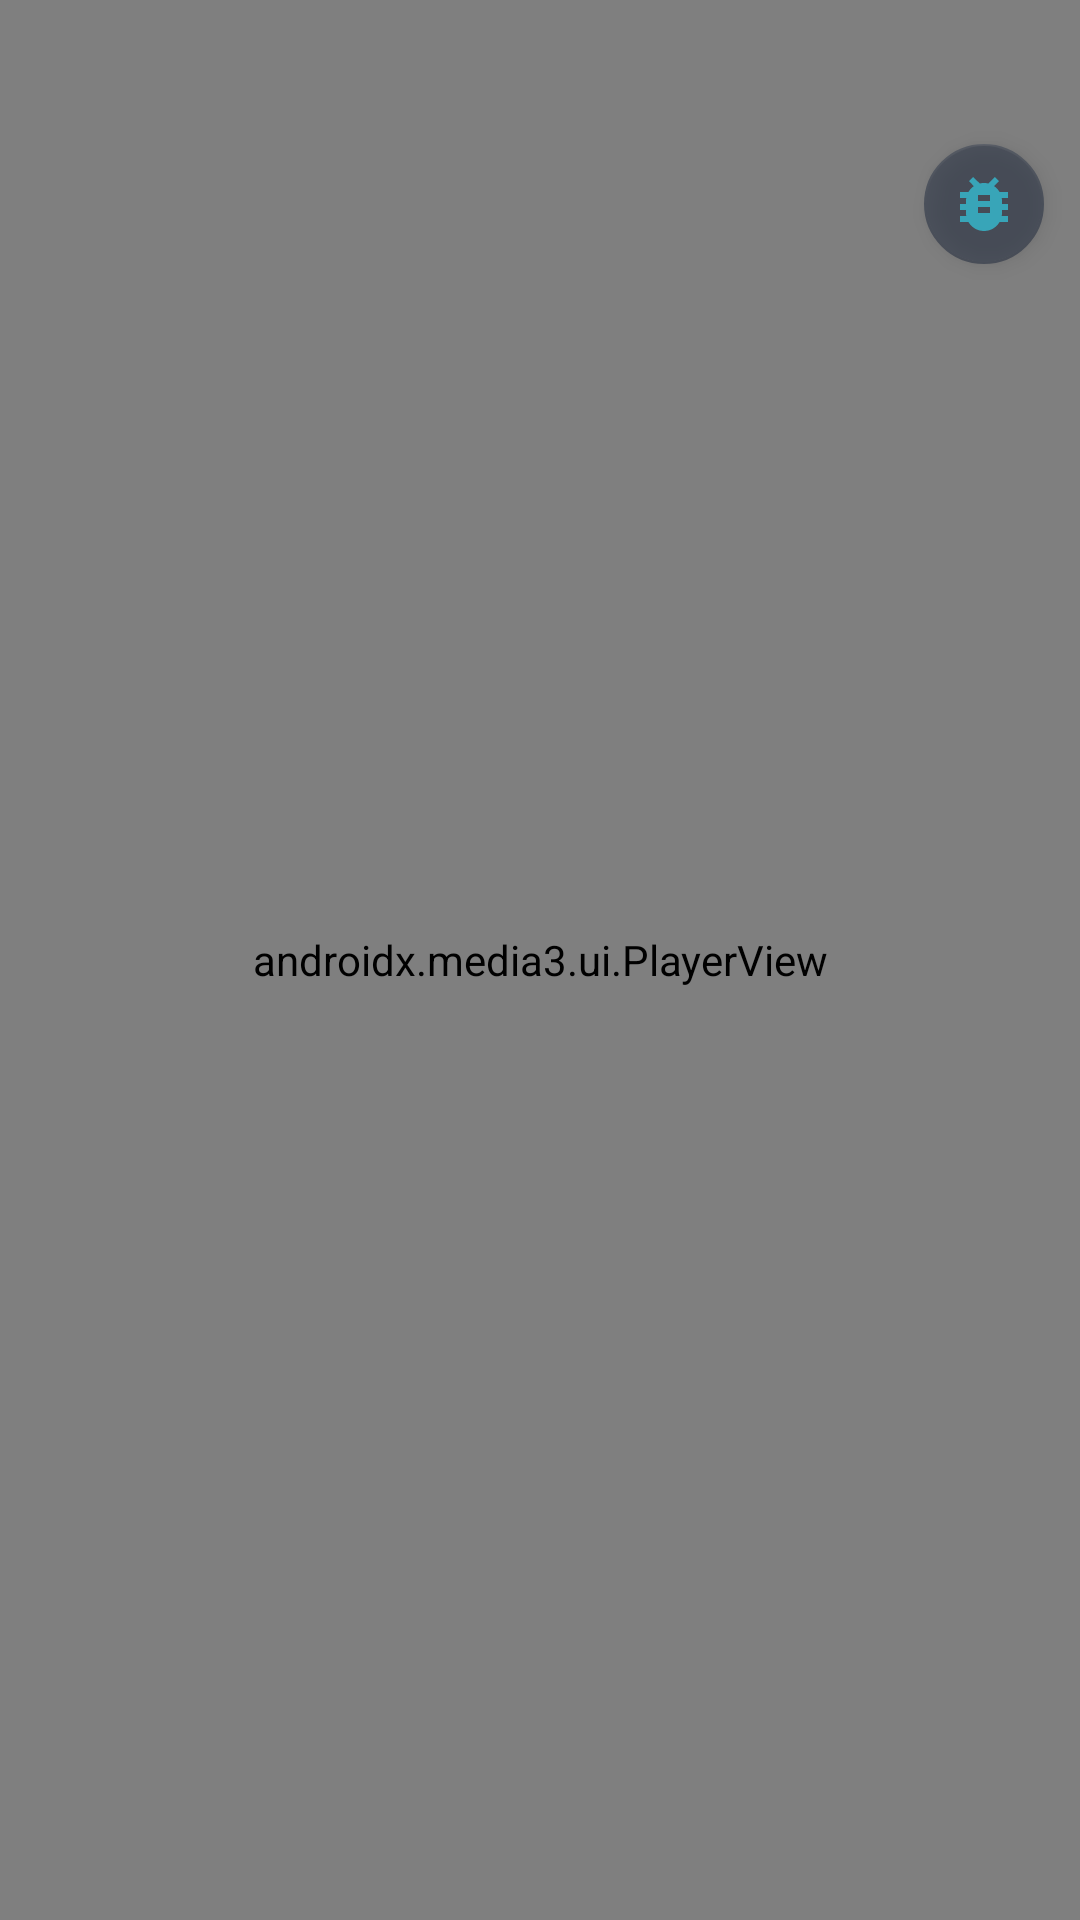

Icon click points for this 1080 × 1920 phone screenshot, format (x,y):
Debug panel: (984,204)
